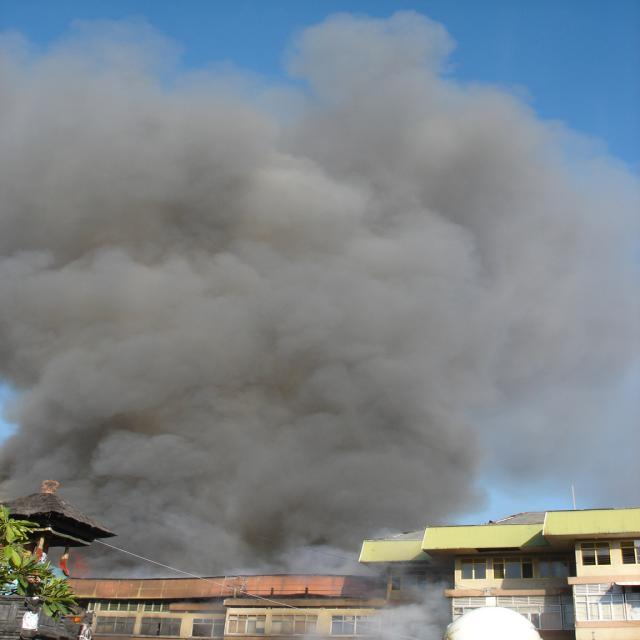Smoke: (0, 6, 640, 579)
